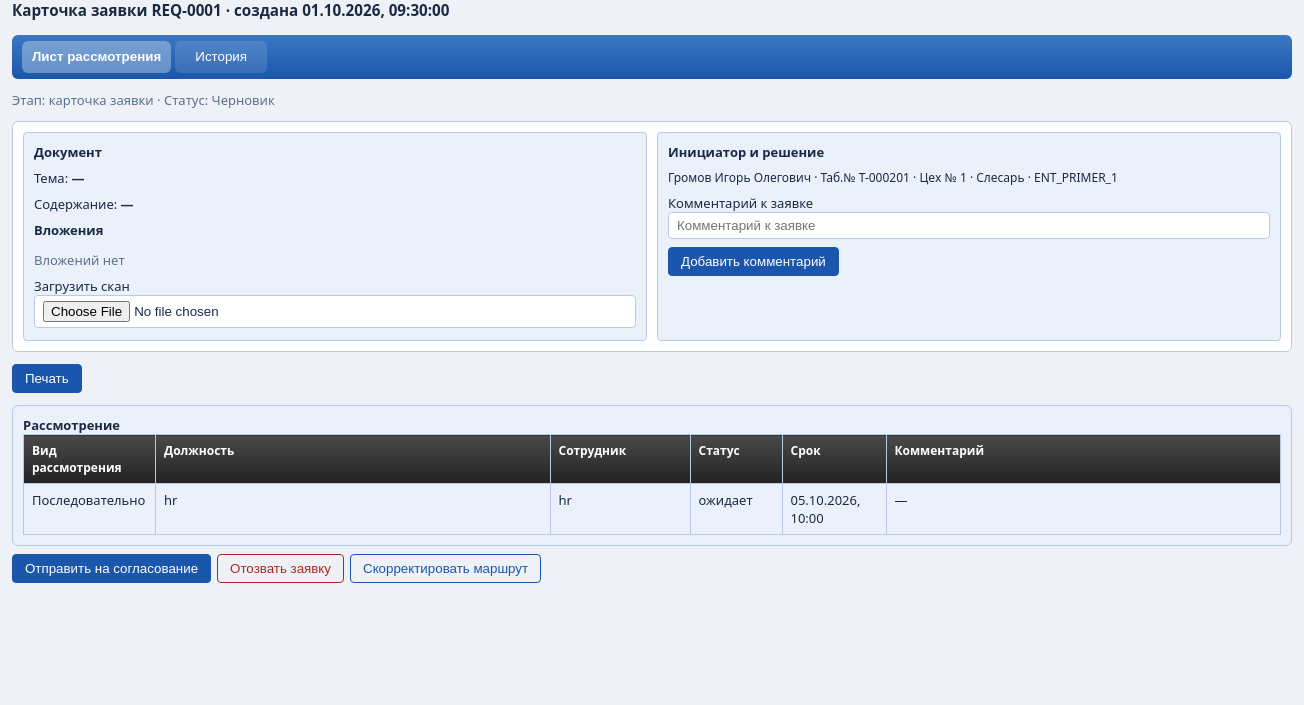
Test: RequestCard › скорректировать маршрут: группа вне справочника блокирует правку
Click the button "Скорректировать маршрут" at (446, 569), box [350, 554, 541, 583]
(page scrolled)
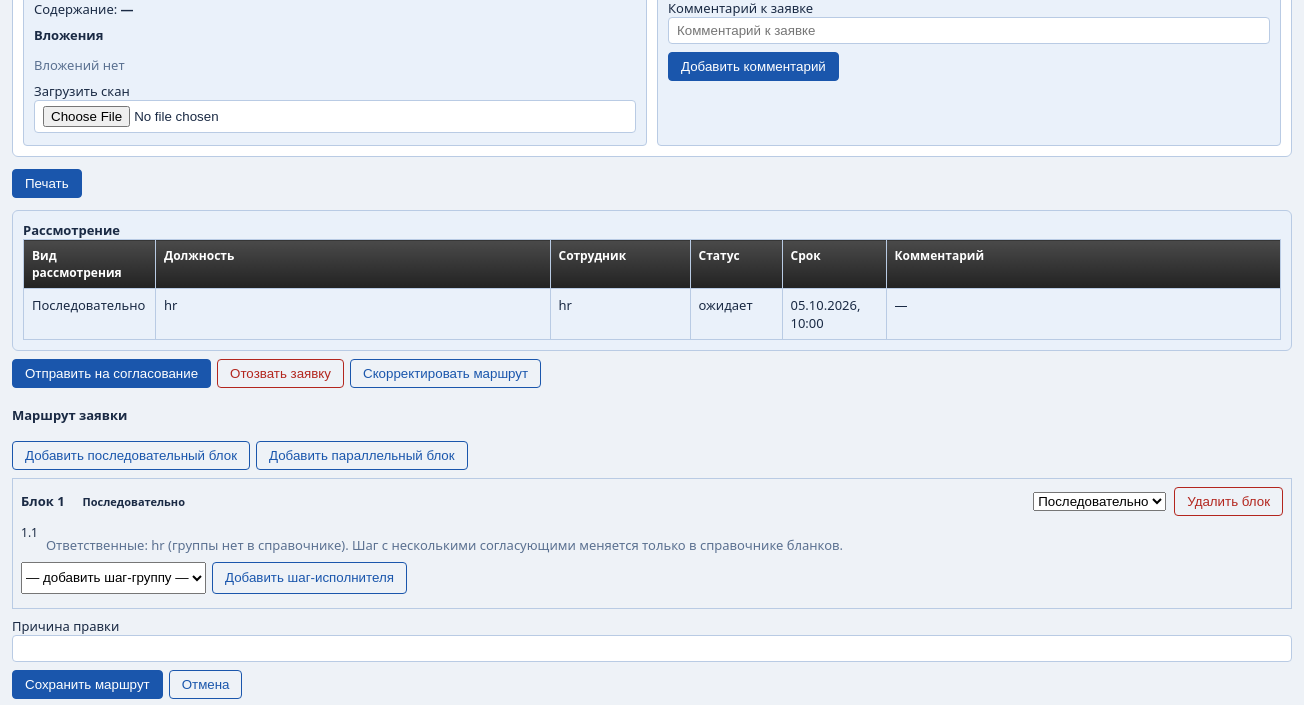
Now the text "Ответственные: hr (группы нет в справочнике)" is shown, box [46, 536, 843, 554]
Click the button "Сохранить маршрут" at (87, 684), box [12, 670, 163, 699]
(page scrolled)
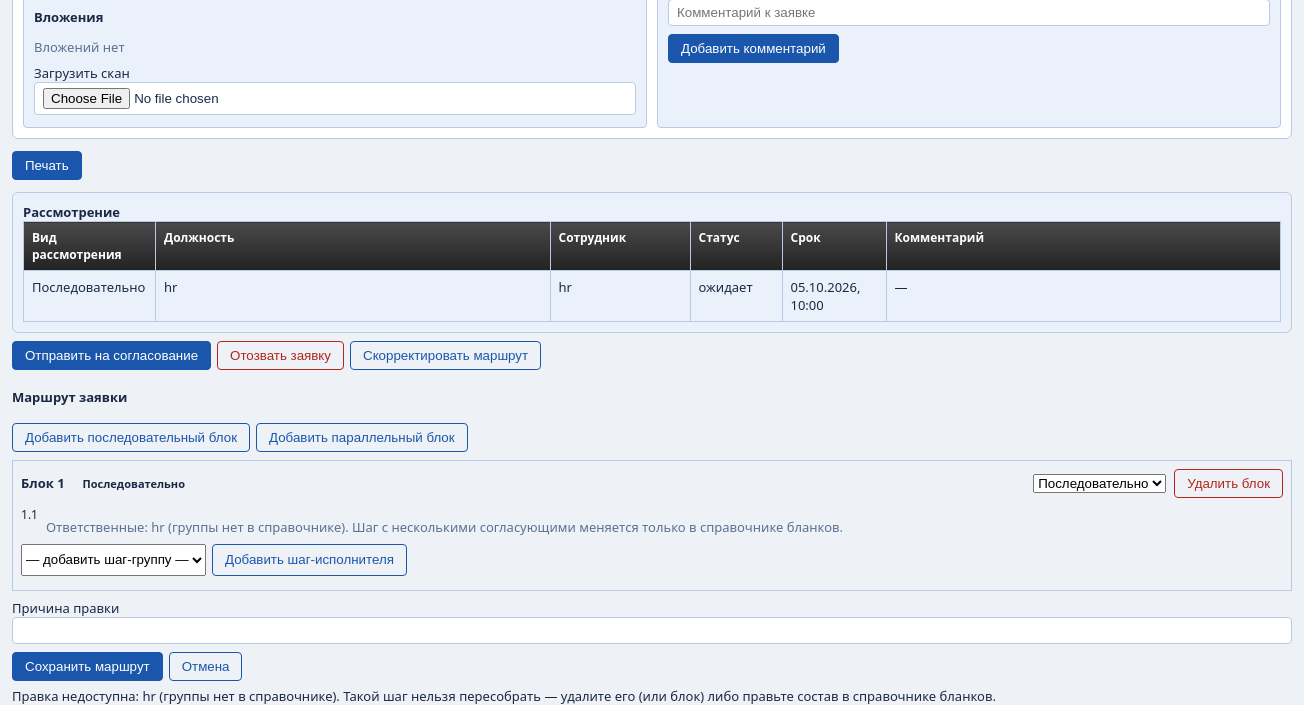
Now the message shows "Правка недоступна: hr (группы нет в справочнике)", box [12, 687, 996, 704]
